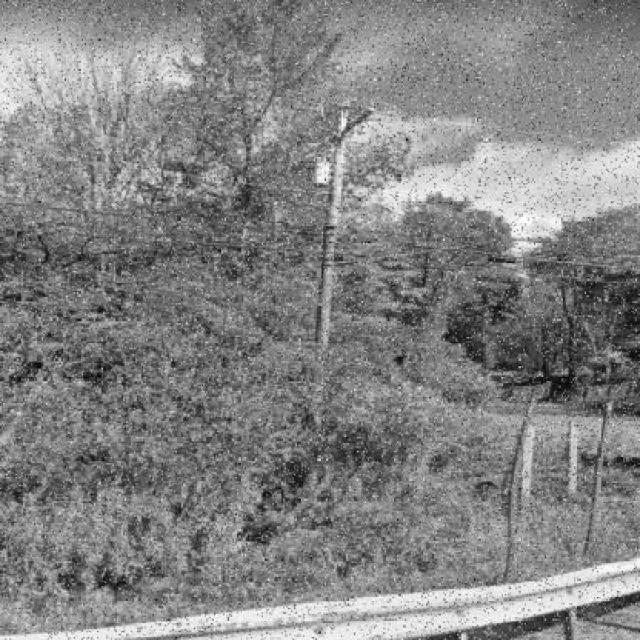pole: (314, 102, 360, 435)
transformer: (312, 154, 337, 189)
